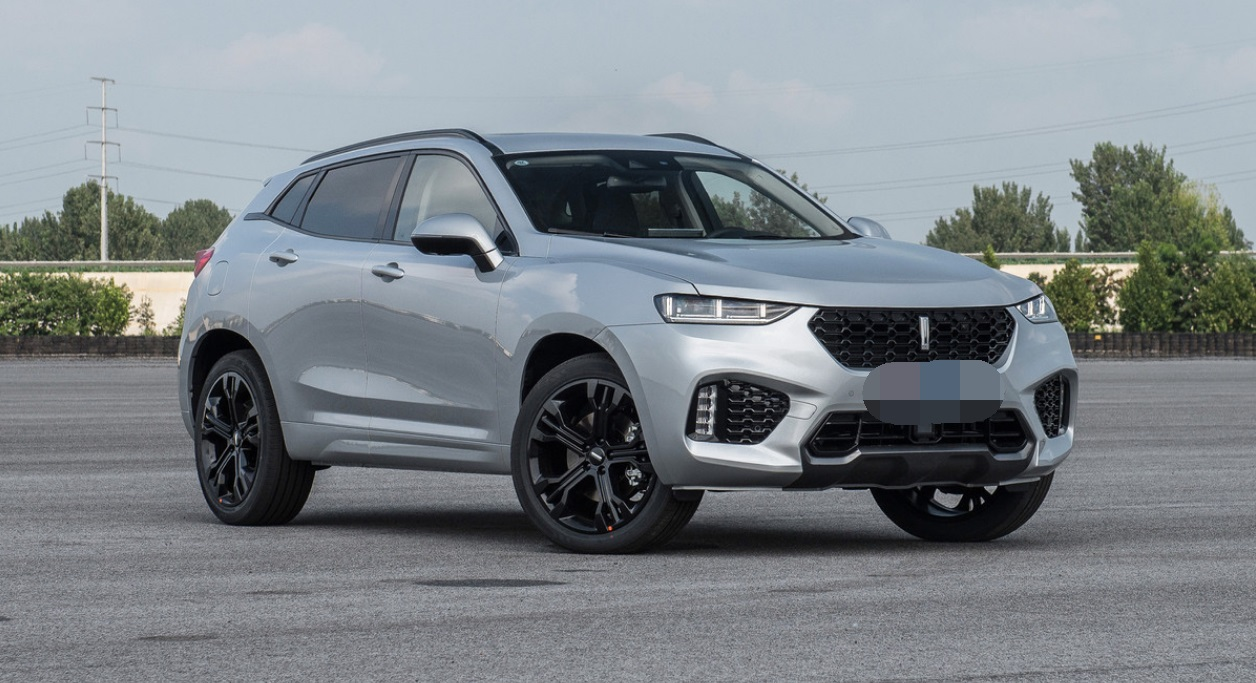SUV: (170, 122, 1090, 558)
